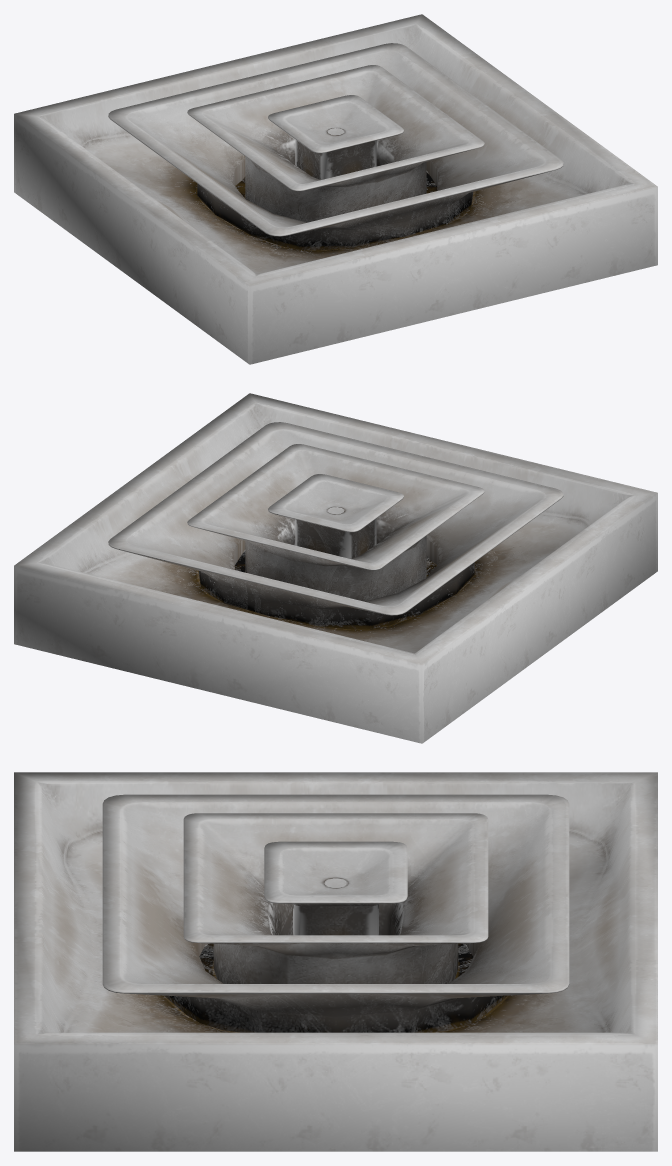
The model's file is vent.dae.
The picture shows the model from 3 angles, top to bottom: view 1: azimuth 30°, elevation 25°; view 2: azimuth 150°, elevation 25°; view 3: azimuth 270°, elevation 25°; orthographic projection. The views are drawn at different scales.
Visible parts, largest first — view 1: Vent; view 2: Vent; view 3: Vent.
Part boxes in pixels (box(x1,y1,x2,y2)): Vent: box(14, 14, 657, 364); Vent: box(14, 393, 657, 743); Vent: box(14, 772, 657, 1151).
Bounding box in the file's own units: 60.96 × 60.96 × 14.99.
Materials: 1 (1 with a texture image).
